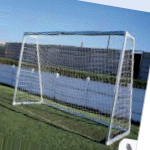goals: (9, 29, 134, 143)
